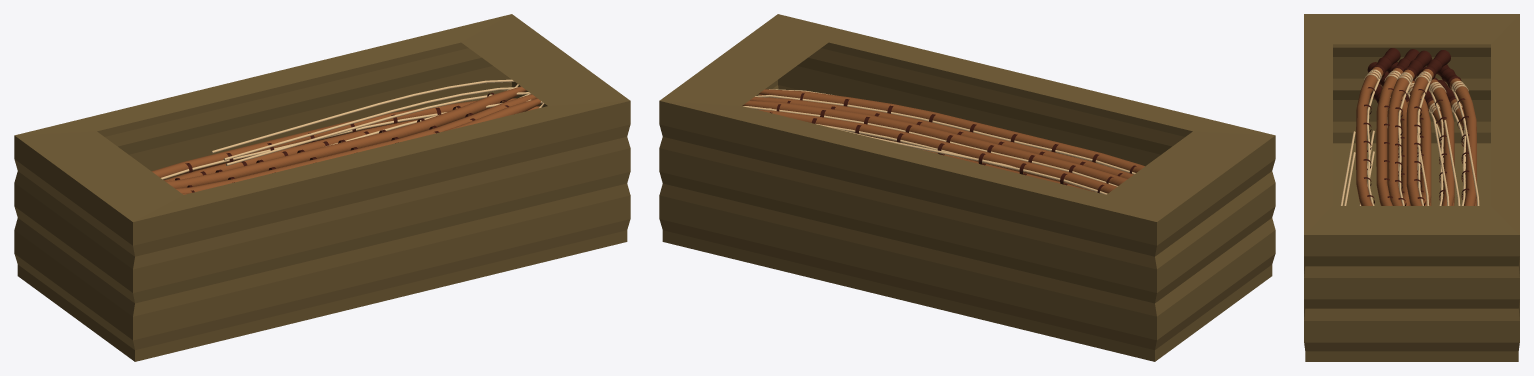
The model's file is varas caixa.fbx.
3 renders of one model, left to right at view 1: azimuth 30°, elevation 25°; view 2: azimuth 150°, elevation 25°; view 3: azimuth 270°, elevation 25°, orthographic. The views are drawn at different scales.
Parts seen in each view (by area): view 1: Cube.001, Cylinder.001; view 2: Cube.001, Cylinder.001; view 3: Cube.001, Cylinder.001.
Part boxes in pixels (box(x1,y1,x2,y2)): Cube.001: box(14, 14, 630, 361); Cylinder.001: box(152, 79, 544, 194); Cube.001: box(659, 14, 1275, 361); Cylinder.001: box(742, 89, 1144, 194); Cube.001: box(1304, 14, 1519, 361); Cylinder.001: box(1340, 48, 1479, 205).
Bounding box in the file's own units: 742 × 201 × 306.
